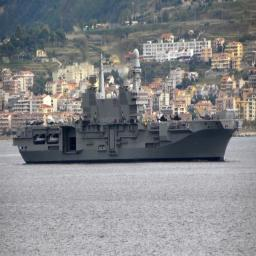Portanaves: (13, 48, 245, 165)
